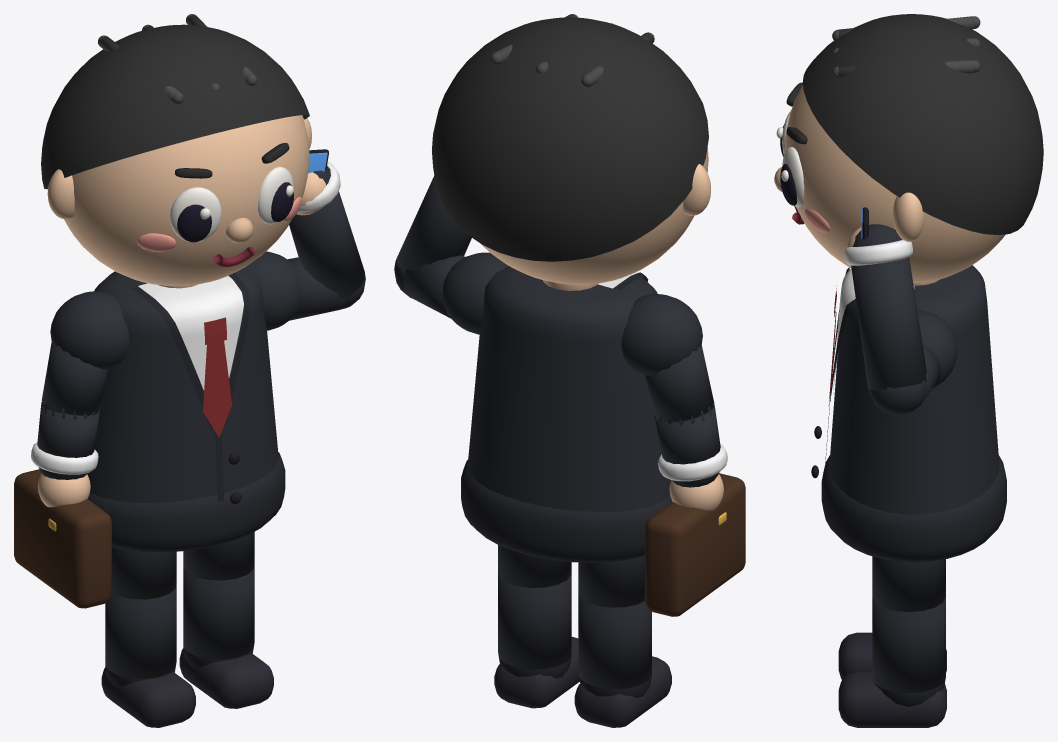
File: ch_passer_business.fbx
3 renders of one model, left to right at view 1: azimuth 30°, elevation 25°; view 2: azimuth 150°, elevation 25°; view 3: azimuth 270°, elevation 25°, orthographic. The views are drawn at different scales.
Visible parts, largest first — view 1: ch_passer_business; view 2: ch_passer_business; view 3: ch_passer_business.
Part boxes in pixels (box(x1,y1,x2,y2)): ch_passer_business: box(14, 14, 365, 727); ch_passer_business: box(394, 14, 745, 727); ch_passer_business: box(774, 14, 1043, 727).
Size of the model in its own units: 0.7842 by 1.54 by 0.5574.
